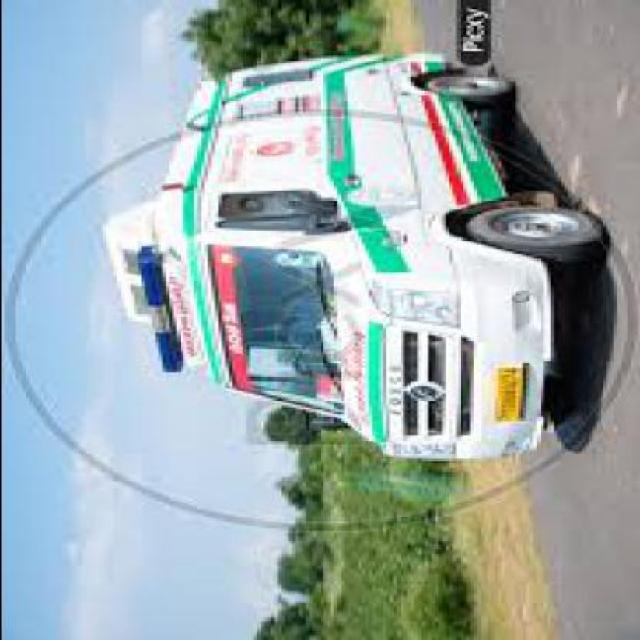Ambulance: (94, 51, 626, 486)
